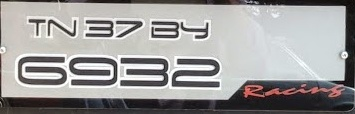character: (14, 52, 67, 88), (119, 54, 170, 88), (68, 54, 119, 87), (171, 56, 220, 89), (46, 14, 77, 38), (82, 15, 114, 38), (149, 19, 180, 40), (179, 19, 209, 40), (114, 17, 143, 38), (26, 14, 45, 36)
